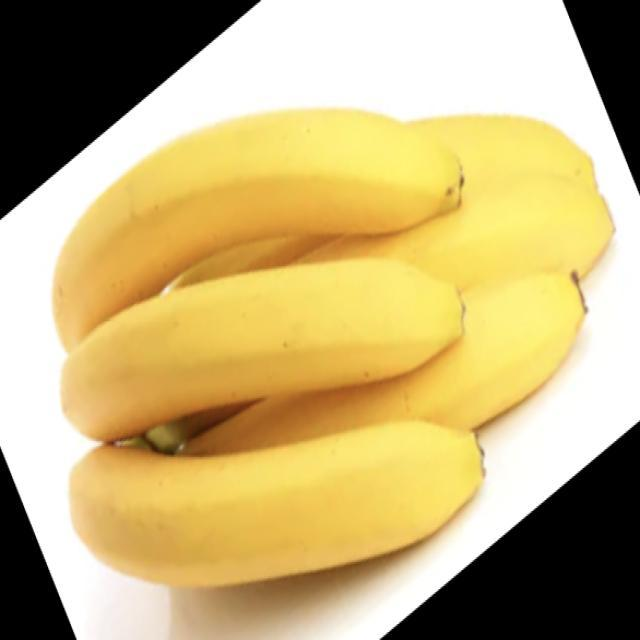Banana: (53, 103, 612, 595)
